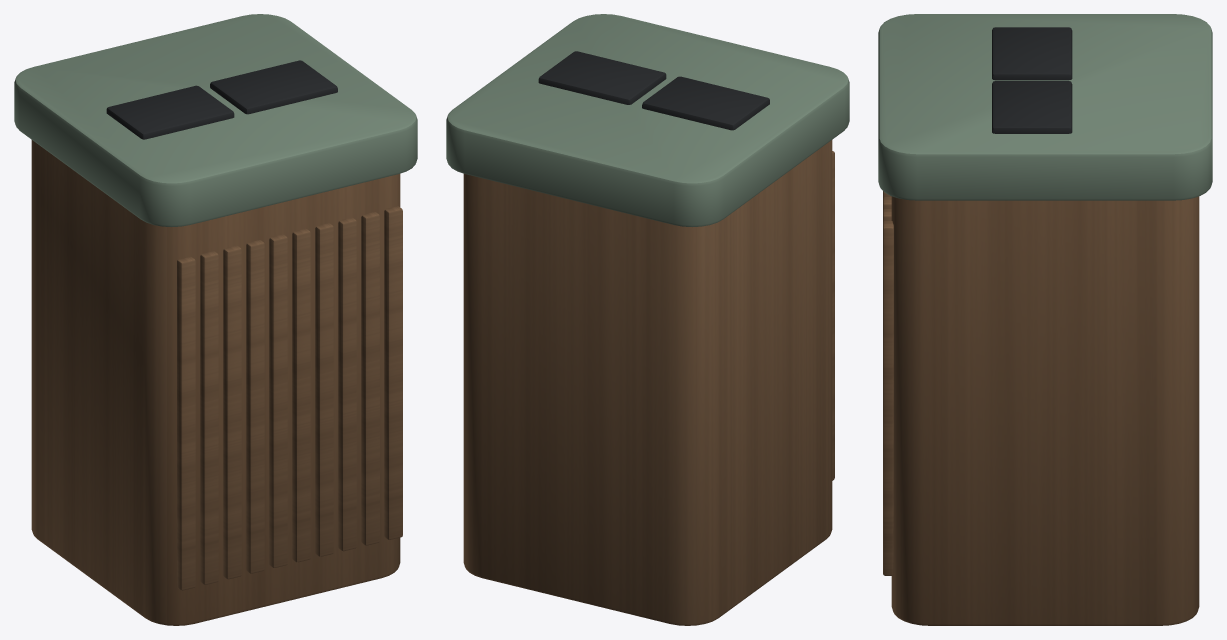
Rendered from trash_can_high_end.glb.
3 views of the same model, side by side, from view 1: azimuth 30°, elevation 25°; view 2: azimuth 150°, elevation 25°; view 3: azimuth 270°, elevation 25° (orthographic). The views are drawn at different scales.
Visible parts, largest first — view 1: TrashCan_Cabinet, TrashCan_Lid, TrashCan_Slat_3, TrashCan_Slat_1, TrashCan_Slat_10, TrashCan_Slat_8, TrashCan_Slat_4, TrashCan_Slat_5, TrashCan_Slat_7, TrashCan_Slat_2, TrashCan_Slat_6, TrashCan_Slat_9 (+2 smaller); view 2: TrashCan_Cabinet, TrashCan_Lid, TrashCan_Opening_1, TrashCan_Opening_2, TrashCan_Slat_1; view 3: TrashCan_Cabinet, TrashCan_Lid, TrashCan_Opening_1, TrashCan_Opening_2, TrashCan_Slat_10.
Part boxes in pixels (x1,y1,x2,y2): TrashCan_Cabinet: [31, 140, 400, 625]; TrashCan_Lid: [14, 14, 417, 226]; TrashCan_Slat_3: [223, 245, 241, 579]; TrashCan_Slat_1: [177, 257, 195, 590]; TrashCan_Slat_10: [384, 206, 402, 539]; TrashCan_Slat_8: [338, 217, 356, 551]; TrashCan_Slat_4: [246, 240, 264, 573]; TrashCan_Slat_5: [269, 234, 287, 567]; TrashCan_Slat_7: [315, 223, 333, 556]; TrashCan_Slat_2: [200, 251, 218, 584]; TrashCan_Slat_6: [292, 228, 310, 562]; TrashCan_Slat_9: [361, 212, 379, 545]; TrashCan_Cabinet: [463, 140, 832, 625]; TrashCan_Lid: [446, 14, 849, 226]; TrashCan_Opening_1: [642, 76, 769, 130]; TrashCan_Opening_2: [538, 51, 666, 104]; TrashCan_Slat_1: [832, 151, 834, 480]; TrashCan_Cabinet: [891, 196, 1199, 625]; TrashCan_Lid: [878, 14, 1212, 200]; TrashCan_Opening_1: [992, 27, 1072, 80]; TrashCan_Opening_2: [992, 81, 1072, 133]; TrashCan_Slat_10: [883, 221, 893, 575].
Size of what is drawn, in the model's own units: 0.6 by 0.9629 by 0.6.
3 materials, 1 textured.
